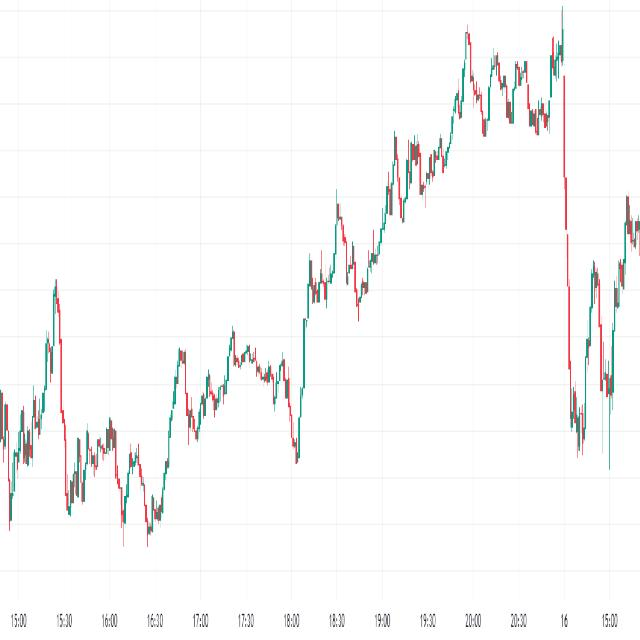Head-Shoulders: (298, 189, 362, 355), (39, 241, 69, 486), (448, 17, 485, 175)
